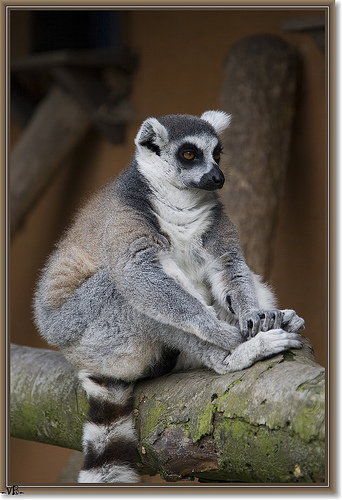cat: (32, 101, 308, 485)
